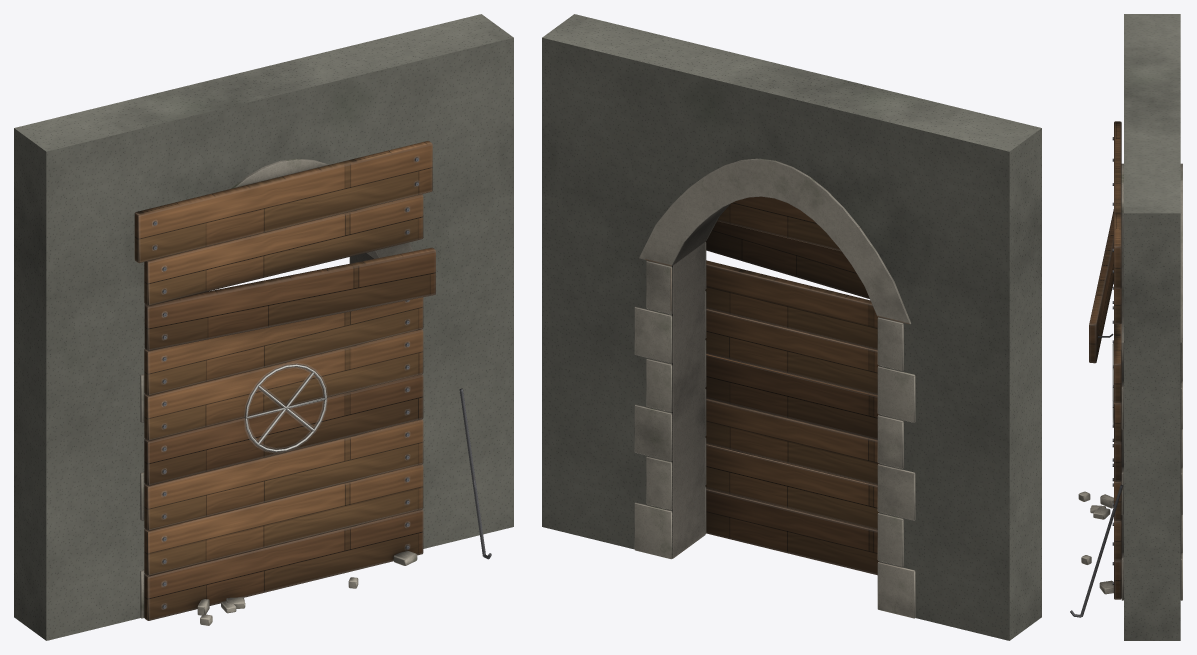
Rendered from BoardedPassage.fbx.
3 views of the same model, side by side, from view 1: azimuth 30°, elevation 25°; view 2: azimuth 150°, elevation 25°; view 3: azimuth 270°, elevation 25° (orthographic). The views are drawn at different scales.
Visible parts, largest first — view 1: BoardedPassage_Wall, BoardedPassage_Board8, BoardedPassage_Board6, BoardedPassage_Board4, BoardedPassage_Board1, BoardedPassage_Board2, BoardedPassage_Board7, BoardedPassage_Board3, BoardedPassage_Board0, BoardedPassage_Board5, BoardedPassage_Main; view 2: BoardedPassage_Wall, BoardedPassage_Main, BoardedPassage_Board5, BoardedPassage_Board2, BoardedPassage_Board3, BoardedPassage_Board1, BoardedPassage_Board0, BoardedPassage_Board4, BoardedPassage_Board6, BoardedPassage_Board7; view 3: BoardedPassage_Wall, BoardedPassage_Main, BoardedPassage_Board6, BoardedPassage_Board8, BoardedPassage_Board5, BoardedPassage_Board4, BoardedPassage_Board3, BoardedPassage_Board0, BoardedPassage_Board1, BoardedPassage_Board7, BoardedPassage_Board2.
Boxes of the visible parts, bbox=[...] form: BoardedPassage_Wall: bbox=[14, 14, 513, 640]; BoardedPassage_Board8: bbox=[134, 141, 432, 263]; BoardedPassage_Board6: bbox=[144, 247, 435, 350]; BoardedPassage_Board4: bbox=[144, 329, 423, 440]; BoardedPassage_Board1: bbox=[144, 464, 423, 575]; BoardedPassage_Board2: bbox=[144, 419, 423, 530]; BoardedPassage_Board7: bbox=[144, 194, 423, 305]; BoardedPassage_Board3: bbox=[144, 374, 423, 485]; BoardedPassage_Board0: bbox=[144, 509, 423, 620]; BoardedPassage_Board5: bbox=[144, 297, 423, 395]; BoardedPassage_Main: bbox=[140, 158, 491, 625]; BoardedPassage_Wall: bbox=[542, 14, 1041, 640]; BoardedPassage_Main: bbox=[634, 158, 915, 618]; BoardedPassage_Board5: bbox=[705, 260, 878, 350]; BoardedPassage_Board2: bbox=[705, 398, 878, 485]; BoardedPassage_Board3: bbox=[705, 353, 878, 440]; BoardedPassage_Board1: bbox=[705, 443, 878, 530]; BoardedPassage_Board0: bbox=[706, 488, 878, 575]; BoardedPassage_Board4: bbox=[705, 308, 878, 395]; BoardedPassage_Board6: bbox=[705, 221, 869, 298]; BoardedPassage_Board7: bbox=[717, 196, 841, 251]; BoardedPassage_Wall: bbox=[1124, 14, 1180, 640]; BoardedPassage_Main: bbox=[1070, 163, 1182, 617]; BoardedPassage_Board6: bbox=[1089, 209, 1113, 363]; BoardedPassage_Board8: bbox=[1112, 121, 1121, 288]; BoardedPassage_Board5: bbox=[1112, 282, 1121, 402]; BoardedPassage_Board4: bbox=[1112, 301, 1121, 442]; BoardedPassage_Board3: bbox=[1112, 340, 1121, 481]; BoardedPassage_Board0: bbox=[1112, 458, 1121, 599]; BoardedPassage_Board1: bbox=[1112, 438, 1121, 560]; BoardedPassage_Board7: bbox=[1112, 183, 1121, 324]; BoardedPassage_Board2: bbox=[1112, 481, 1121, 520].
Bounding box in the file's own units: 1000 × 1002 × 239.
